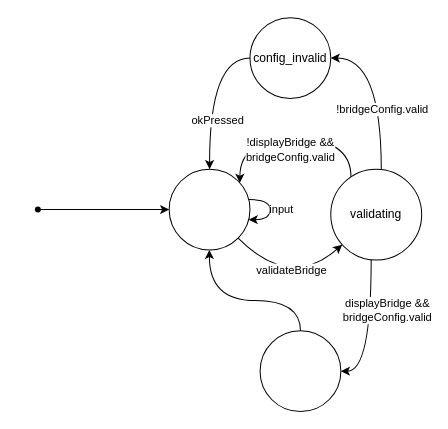
Some shapes in this 448 by 429 pixel diagram are drawn without their labels. The shapes that lost their labels are listed below. From the top down, each one's box as (x1, y1, x2, y2) in pixels, then its label:
(168, 168, 250, 250): waiting
(259, 330, 341, 412): display
